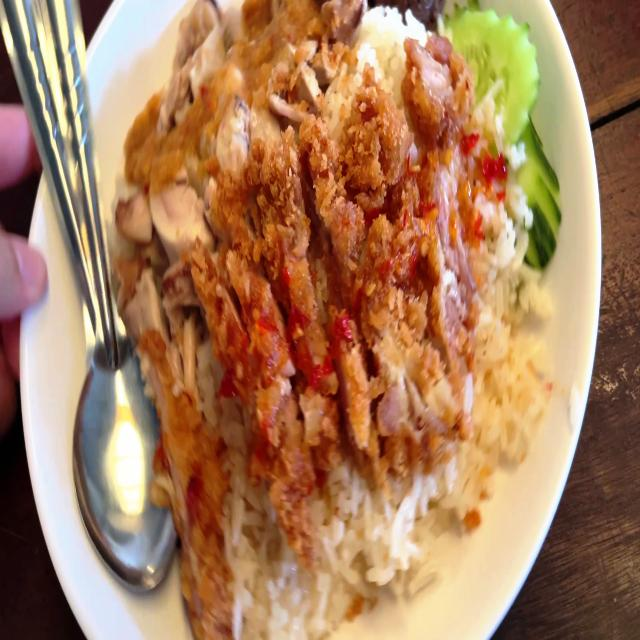boiled_chicken: (112, 0, 365, 268)
boiled_chicken_blood_jelly: (370, 0, 440, 33)
chicken_rice: (112, 0, 552, 640)
cucumber: (444, 0, 535, 141), (490, 100, 557, 275)
fried_chicken: (178, 51, 457, 580)
